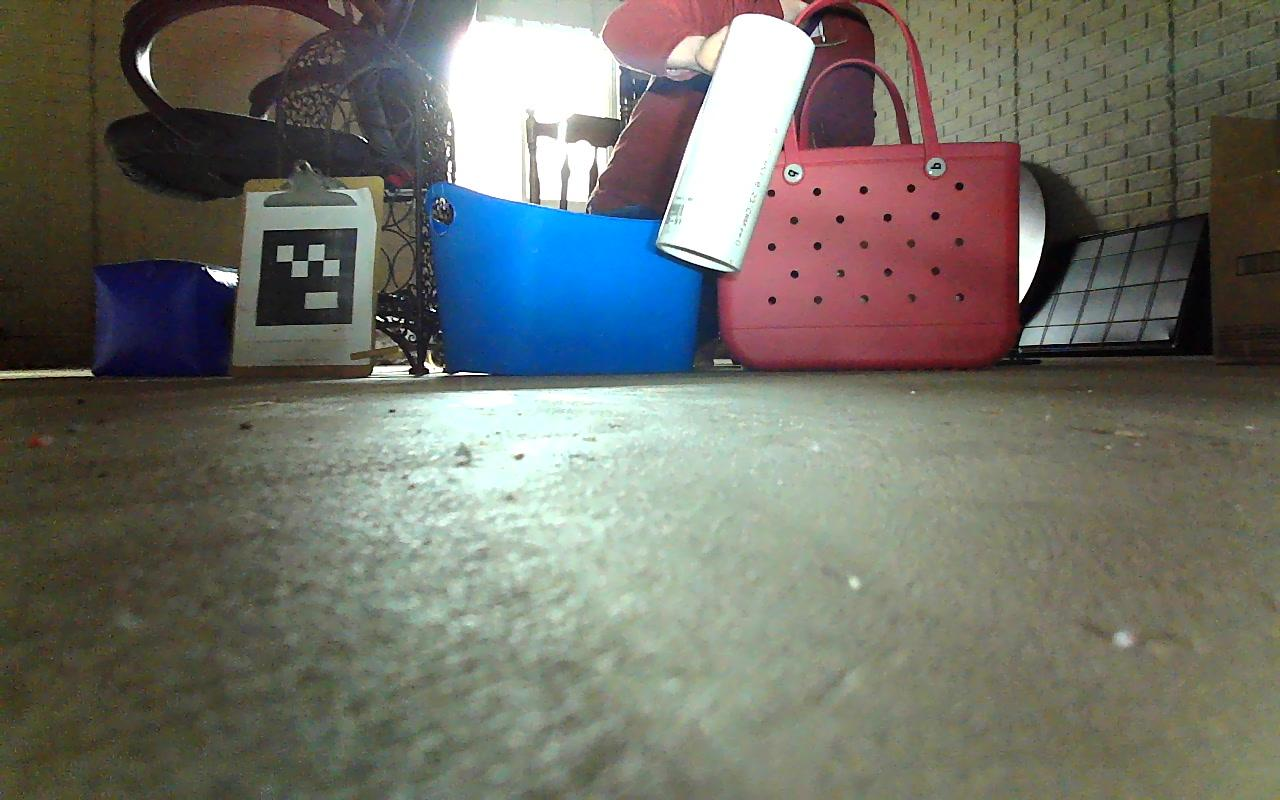coral: (652, 12, 822, 274)
